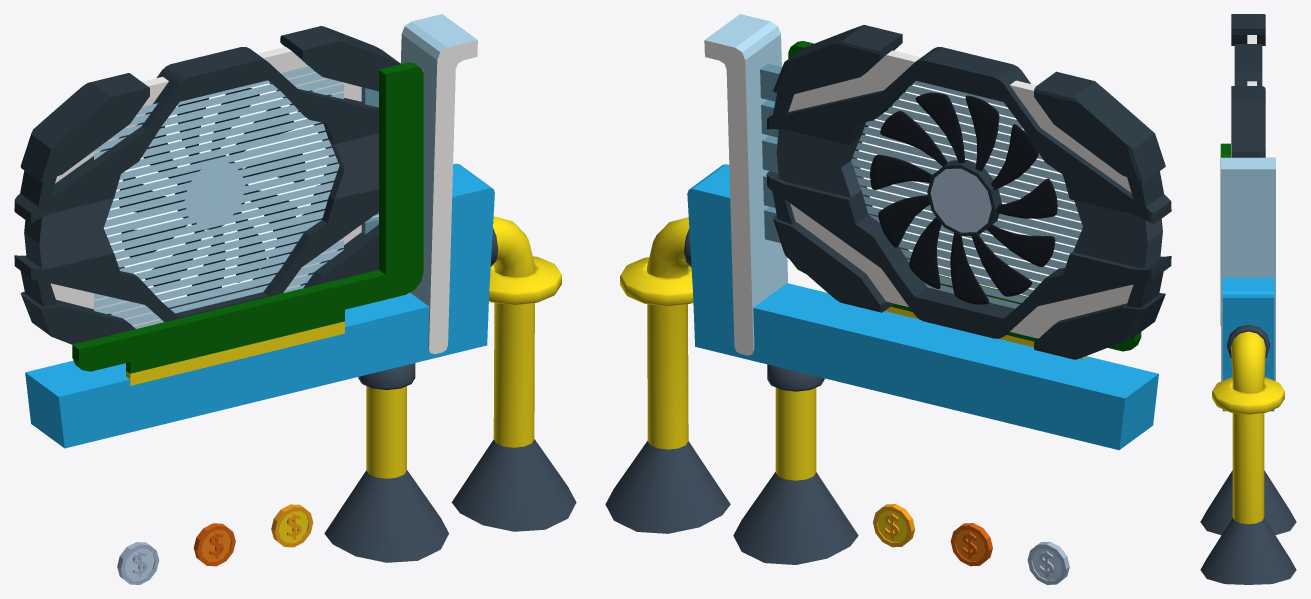
File: Fan_1.fbx
3 renders of one model, left to right at view 1: azimuth 30°, elevation 25°; view 2: azimuth 150°, elevation 25°; view 3: azimuth 270°, elevation 25°, orthographic. The views are drawn at different scales.
Parts seen in each view (by area): view 1: Fan_1_machine, Fan_1_statictable, Fan_1_staticstick, Yellow_pipe_big, Yellow_pipe_small_funnel, Yellow_pipe_big_funnel, Fan_1, Yellow_pipe_small, Yellow_pipe_circle, Money_gold, Money_bronze, Money_silver; view 2: Fan_1_machine, Fan_1_statictable, Fan_1, Fan_1_staticstick, Yellow_pipe_big, Yellow_pipe_big_funnel, Yellow_pipe_small_funnel, Yellow_pipe_small, Yellow_pipe_circle, Money_bronze, Money_gold, Money_silver; view 3: Fan_1_staticstick, Yellow_pipe_big, Fan_1_machine, Yellow_pipe_big_funnel, Fan_1_statictable, Yellow_pipe_small_funnel, Yellow_pipe_circle.
Part boxes in pixels (x1,y1,x2,y2): Fan_1_machine: (14, 26, 423, 385); Fan_1_statictable: (25, 163, 494, 448); Fan_1_staticstick: (361, 14, 477, 353); Yellow_pipe_big: (490, 216, 534, 447); Yellow_pipe_small_funnel: (324, 470, 448, 562); Yellow_pipe_big_funnel: (451, 439, 576, 531); Fan_1: (119, 88, 305, 295); Yellow_pipe_small: (358, 363, 415, 478); Yellow_pipe_circle: (489, 256, 561, 305); Money_gold: (271, 504, 313, 547); Money_bronze: (193, 523, 235, 566); Money_silver: (117, 542, 159, 584); Fan_1_machine: (766, 25, 1171, 359); Fan_1_statictable: (687, 164, 1158, 449); Fan_1: (870, 92, 1057, 304); Fan_1_staticstick: (704, 14, 787, 355); Yellow_pipe_big: (647, 217, 691, 449); Yellow_pipe_big_funnel: (605, 441, 730, 533); Yellow_pipe_small_funnel: (733, 472, 858, 564); Yellow_pipe_small: (767, 364, 824, 480); Yellow_pipe_circle: (620, 257, 693, 306); Money_bronze: (950, 523, 992, 566); Money_gold: (873, 504, 914, 547); Money_silver: (1027, 541, 1069, 584); Fan_1_staticstick: (1221, 157, 1275, 381); Yellow_pipe_big: (1227, 324, 1269, 524); Fan_1_machine: (1220, 14, 1265, 325); Yellow_pipe_big_funnel: (1200, 518, 1296, 584); Fan_1_statictable: (1222, 277, 1274, 411); Yellow_pipe_small_funnel: (1200, 470, 1296, 535); Yellow_pipe_circle: (1212, 377, 1284, 414).
Size of the model in its own units: 1.39 by 1.26 by 0.2756.
